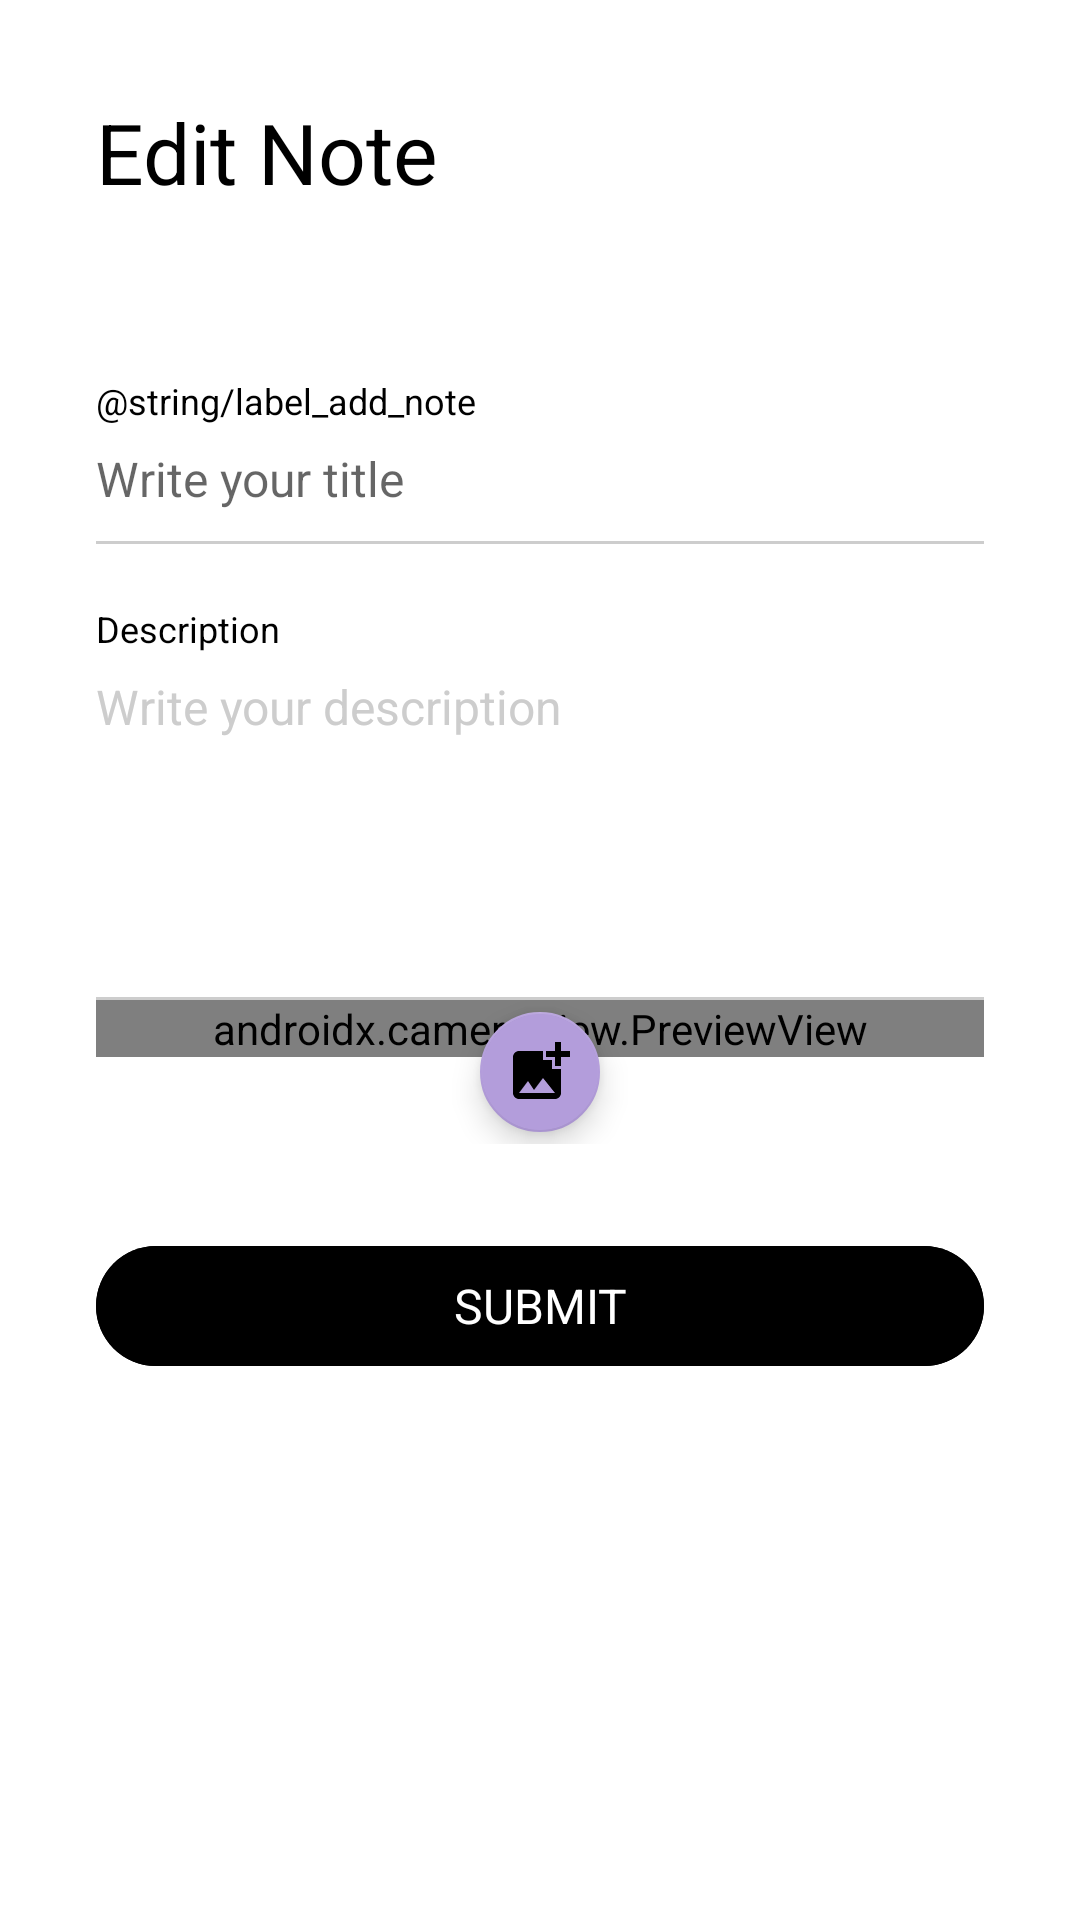

Screen size 1080×1920. Icon name, then its box in pixels as (x1, y1, x2, y2):
add photo: (468, 1000, 612, 1139)
